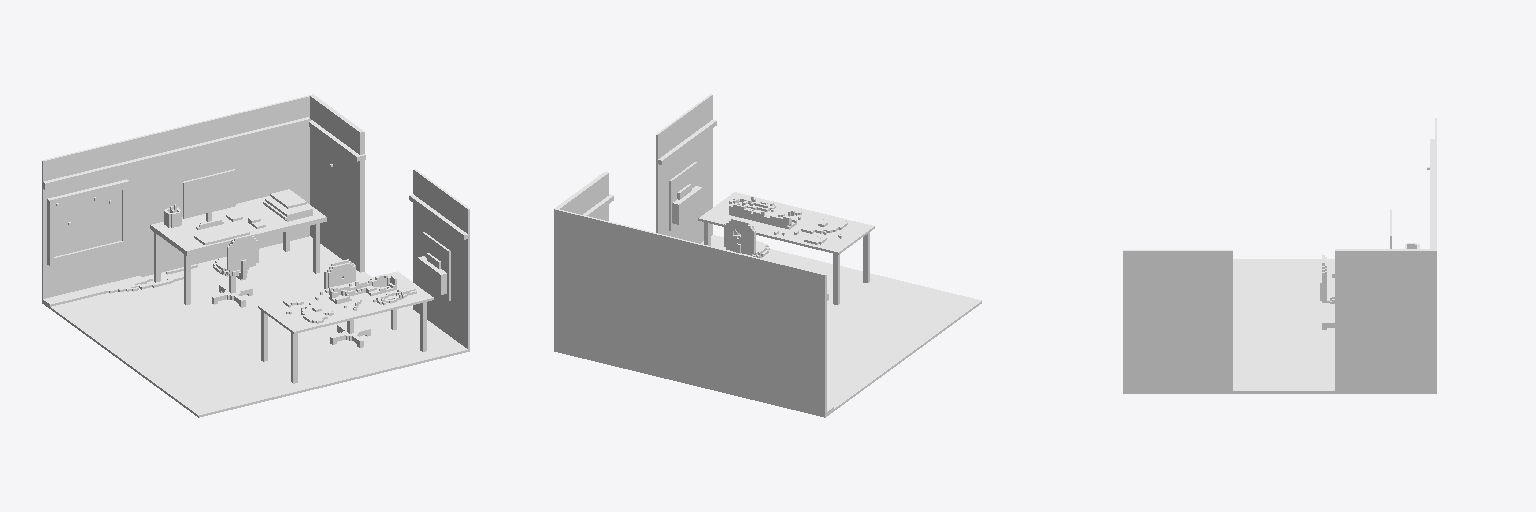
The model's file is room1.obj.
3 renders of one model, left to right at view 1: azimuth 30°, elevation 25°; view 2: azimuth 150°, elevation 25°; view 3: azimuth 270°, elevation 25°, orthographic.
Bounding box in the file's own units: 126 × 63 × 126.